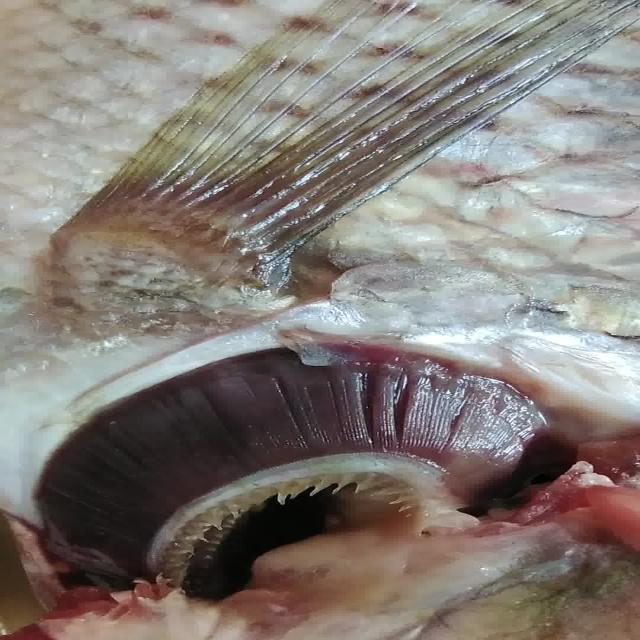Non-Fresh: (69, 348, 563, 550)
